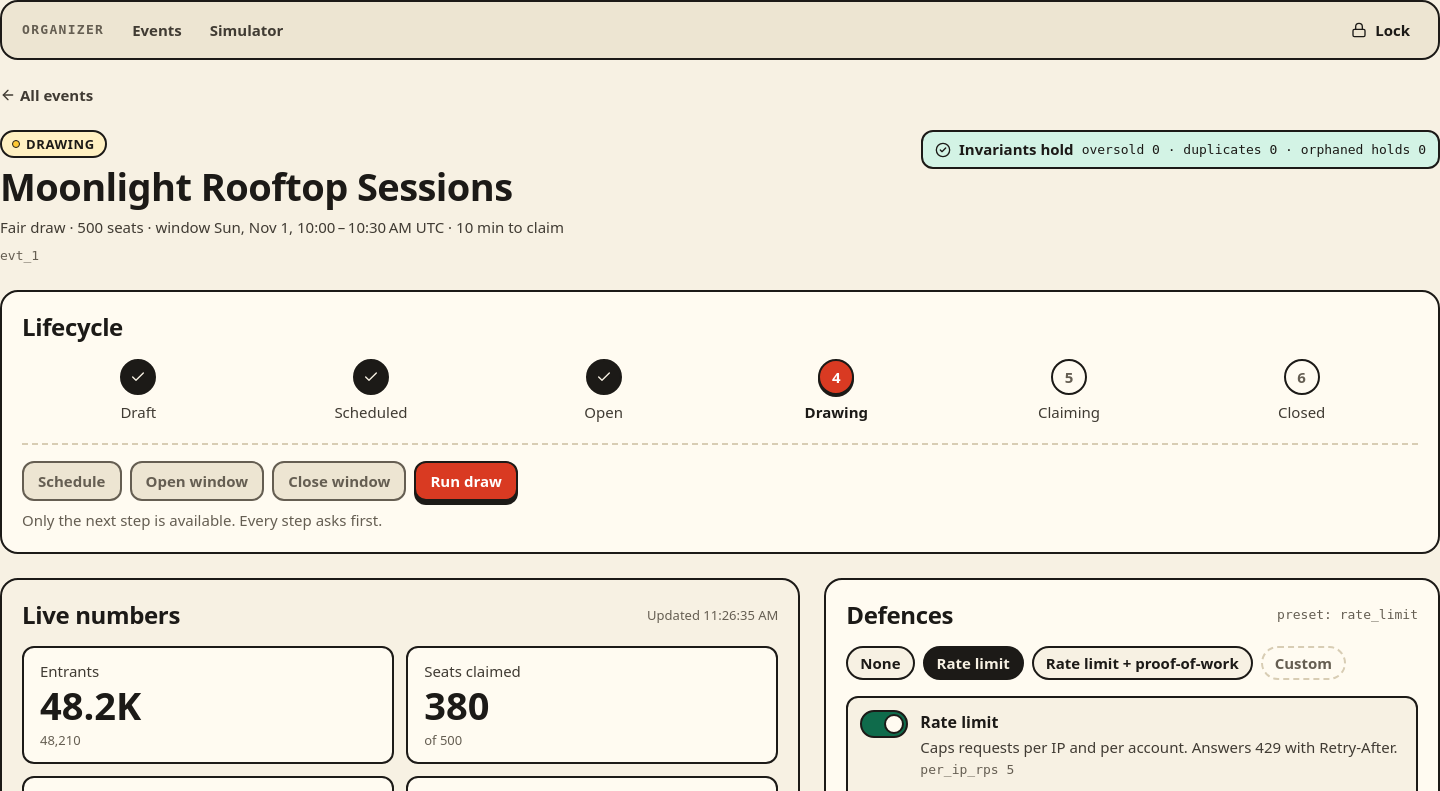
Test case: event control page › the draw confirmation states what will happen, with real numbers
Expected: the text "48.2K" is shown, [40,679,141,731]
Click the button "Run draw": (466, 481) [414,461,518,501]
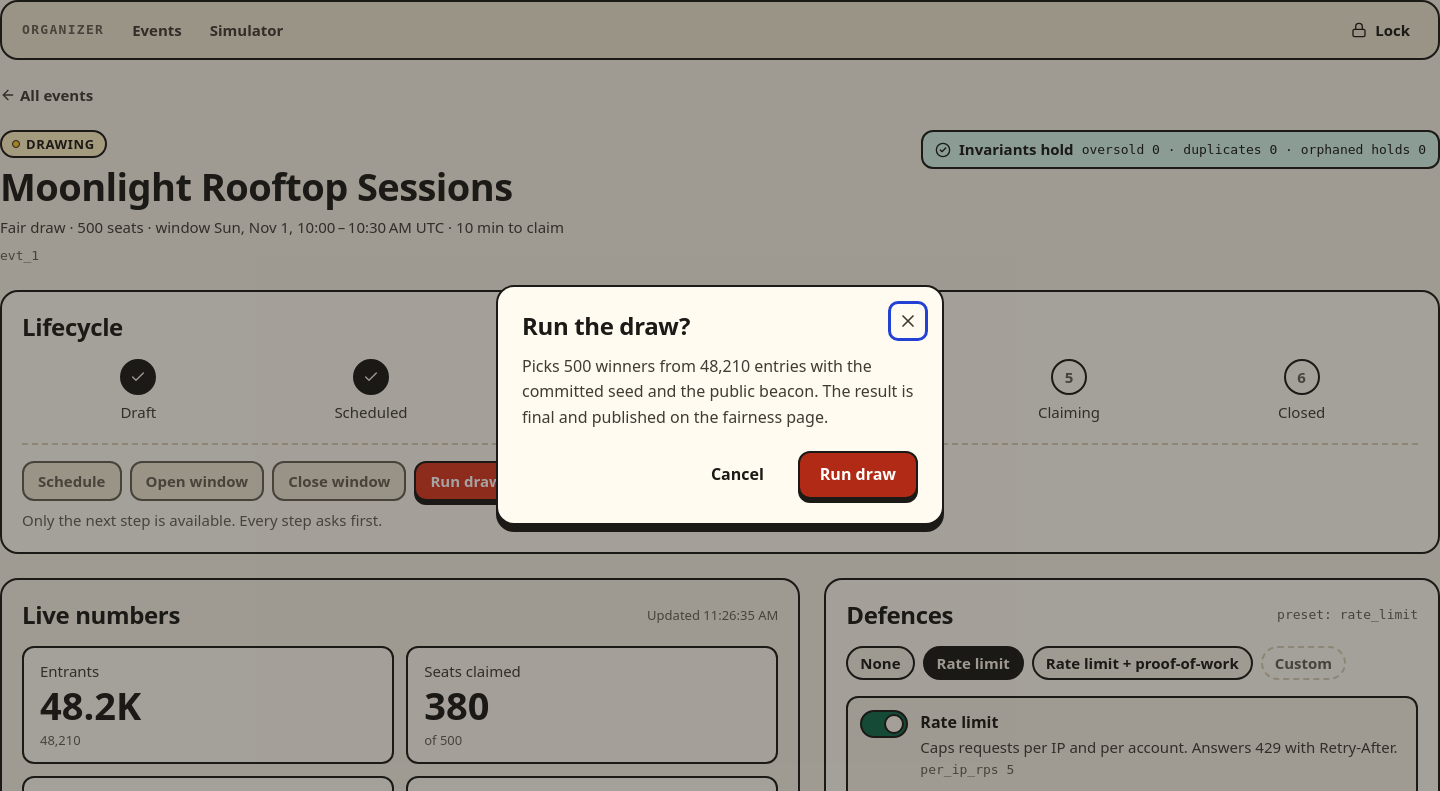
Expected: the dialog "Run the draw?" shows "Picks 500 winners from 48,210 entries", [522,355,913,428]
